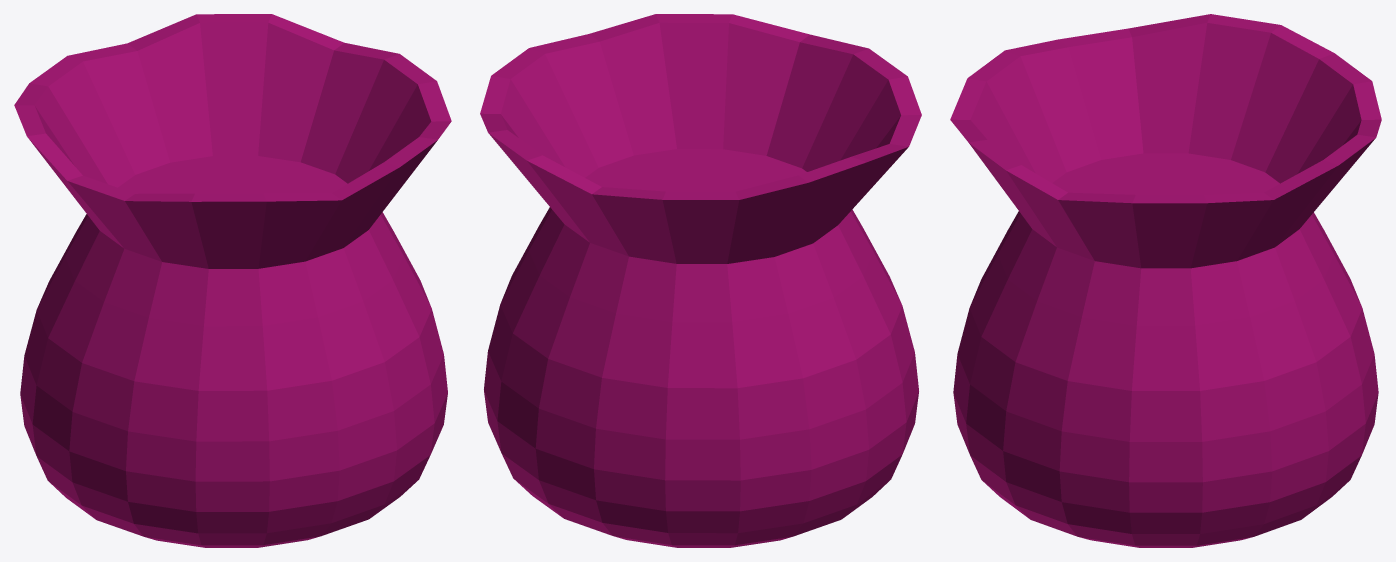
The model's file is SantaBag.fbx.
The picture shows the model from 3 angles, left to right: view 1: azimuth 30°, elevation 25°; view 2: azimuth 150°, elevation 25°; view 3: azimuth 270°, elevation 25°; orthographic projection.
Parts seen in each view (by area): view 1: SantaBag; view 2: SantaBag; view 3: SantaBag.
Part boxes in pixels (box(x1,y1,x2,y2)): SantaBag: box(14, 14, 451, 547); SantaBag: box(480, 14, 921, 547); SantaBag: box(950, 14, 1381, 547).
Bounding box in the file's own units: 800 × 800 × 800.
